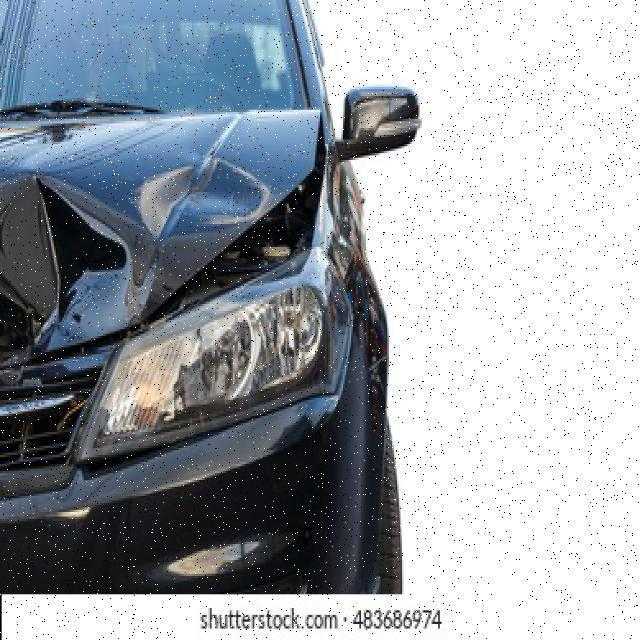headlight: (0, 102, 204, 362)
